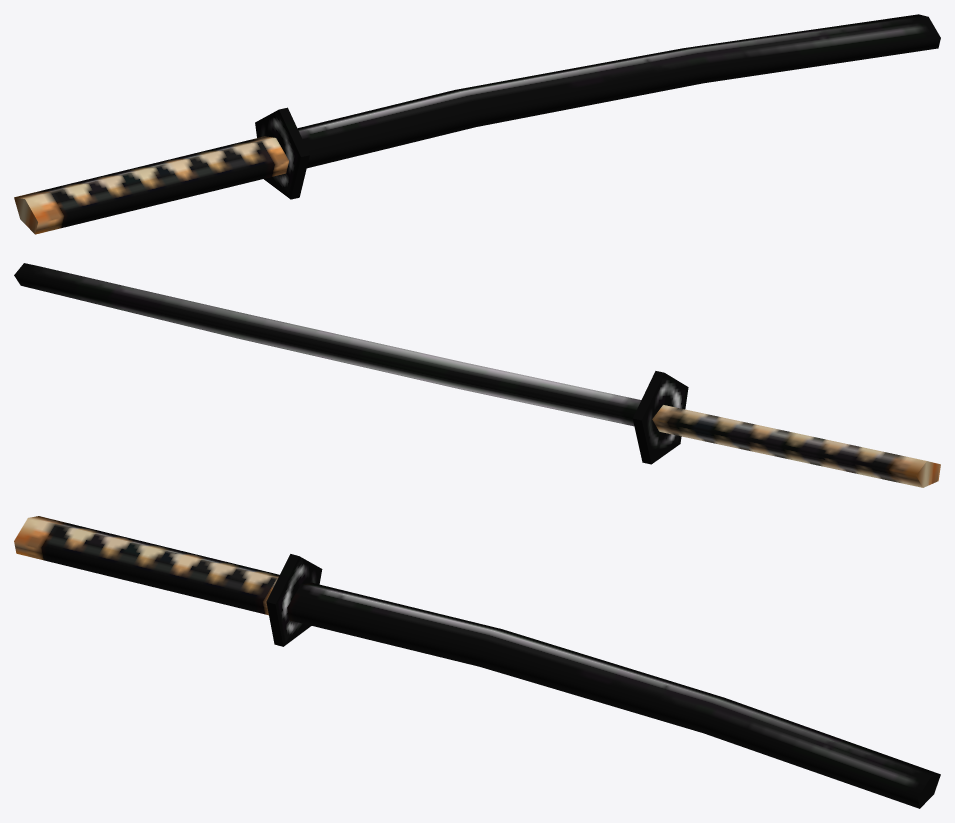
Rendered from sword_1.fbx.
The picture shows the model from 3 angles, top to bottom: view 1: azimuth 30°, elevation 25°; view 2: azimuth 150°, elevation 25°; view 3: azimuth 330°, elevation 25°; orthographic projection.
Visible parts, largest first — view 1: mesh_0; view 2: mesh_0; view 3: mesh_0.
Boxes of the visible parts, bbox=[...] form: mesh_0: bbox=[14, 14, 940, 234]; mesh_0: bbox=[14, 263, 940, 487]; mesh_0: bbox=[14, 516, 940, 808].
Size of the model in its own units: 132 by 11.27 by 11.79.
Materials: 1 (1 with a texture image).
